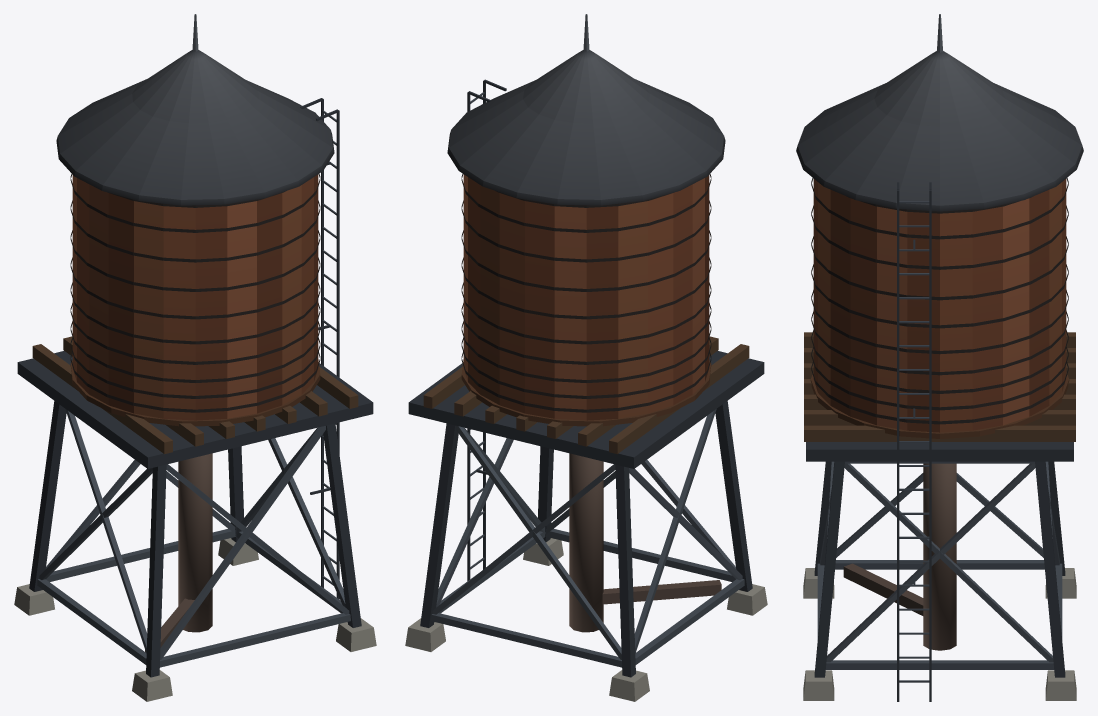
File: water_tower.glb
3 renders of one model, left to right at view 1: azimuth 30°, elevation 25°; view 2: azimuth 150°, elevation 25°; view 3: azimuth 270°, elevation 25°, orthographic. The views are drawn at different scales.
Parts seen in each view (by area): view 1: water_tower; view 2: water_tower; view 3: water_tower.
Boxes of the visible parts, left/top/right/bottom form: water_tower: left=14, top=14, right=376, bottom=701; water_tower: left=405, top=14, right=767, bottom=701; water_tower: left=796, top=14, right=1083, bottom=701.
Size of the model in its own units: 3.96 by 9.45 by 3.92.
